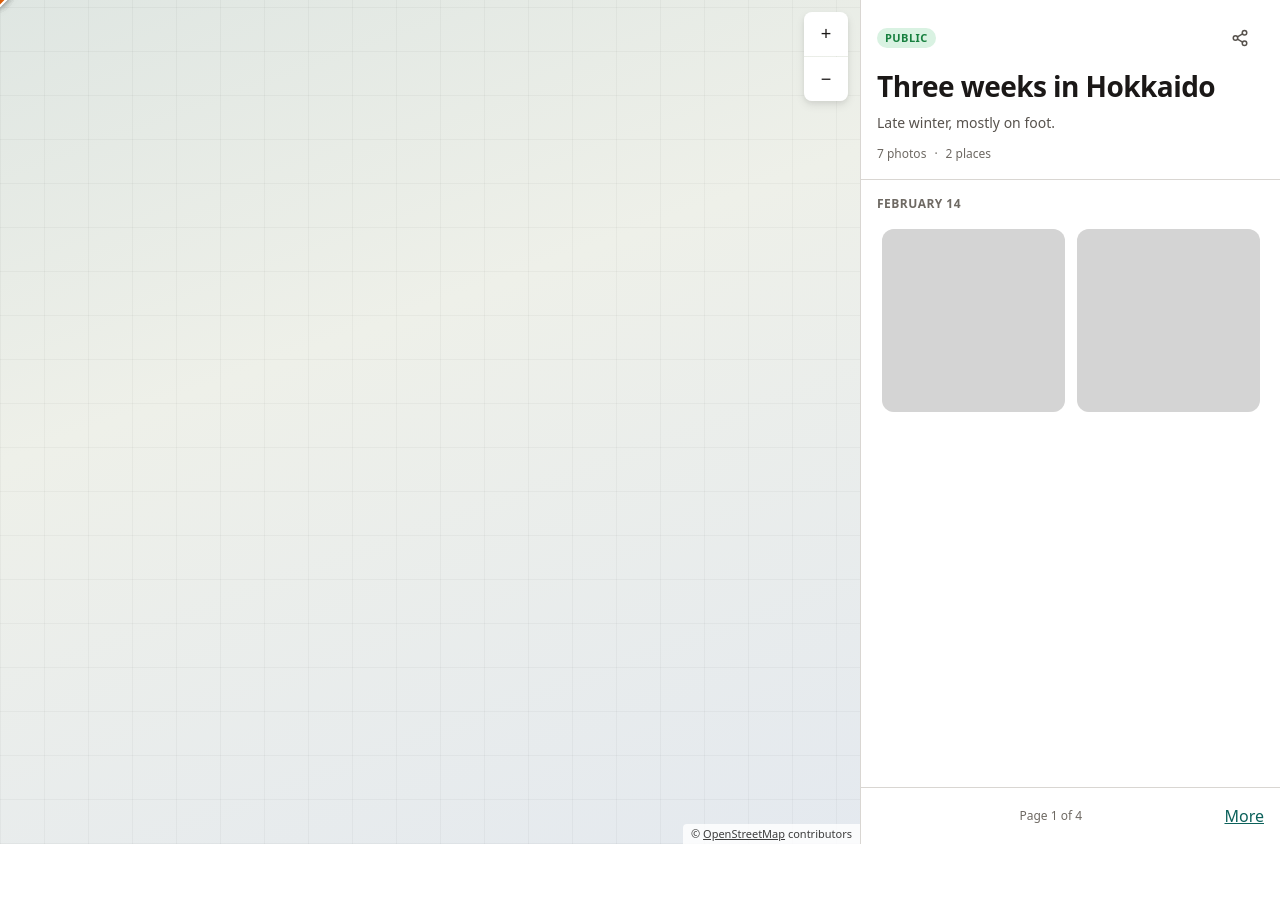
VoyageDetail — desktop photo pages › fits the map to the viewport and pages photos forward and backward
The width and height of the screenshot is (1280, 900).
expect the link "Previous" is not shown: met
Click the link "More": (1244, 816) [1224, 805, 1264, 827]
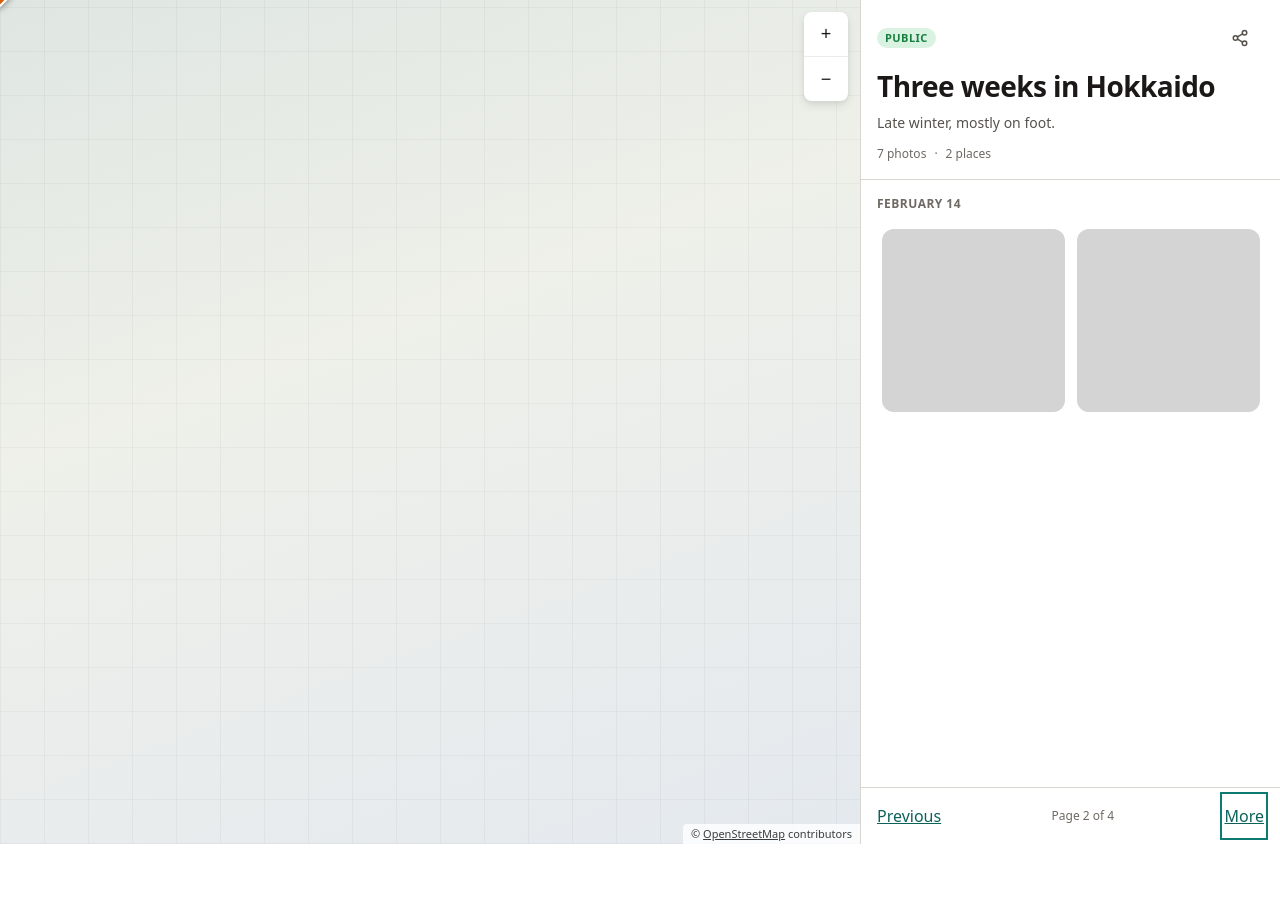
Click the link "Previous": (909, 816) [877, 805, 941, 827]
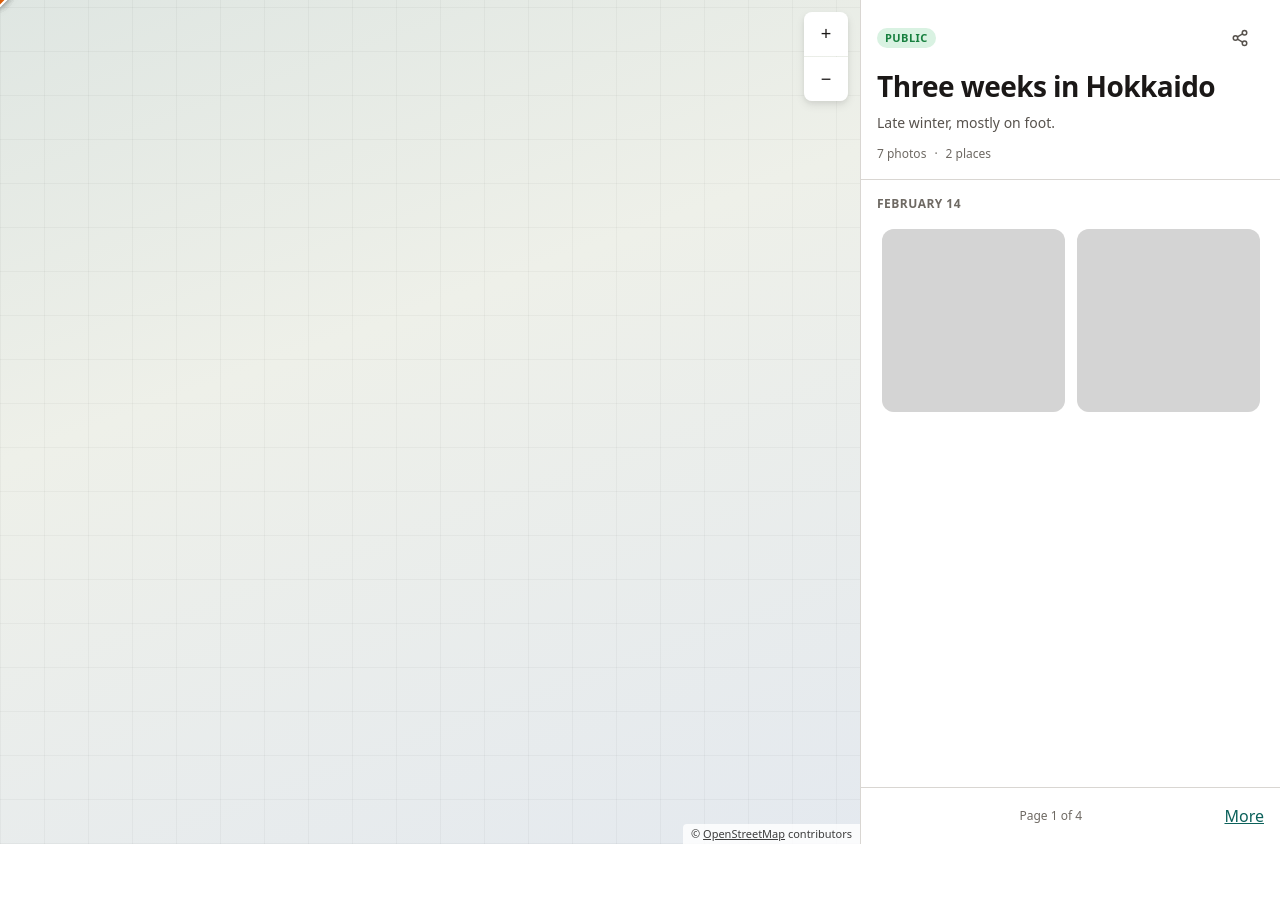
Click the link "More": (1244, 816) [1224, 805, 1264, 827]
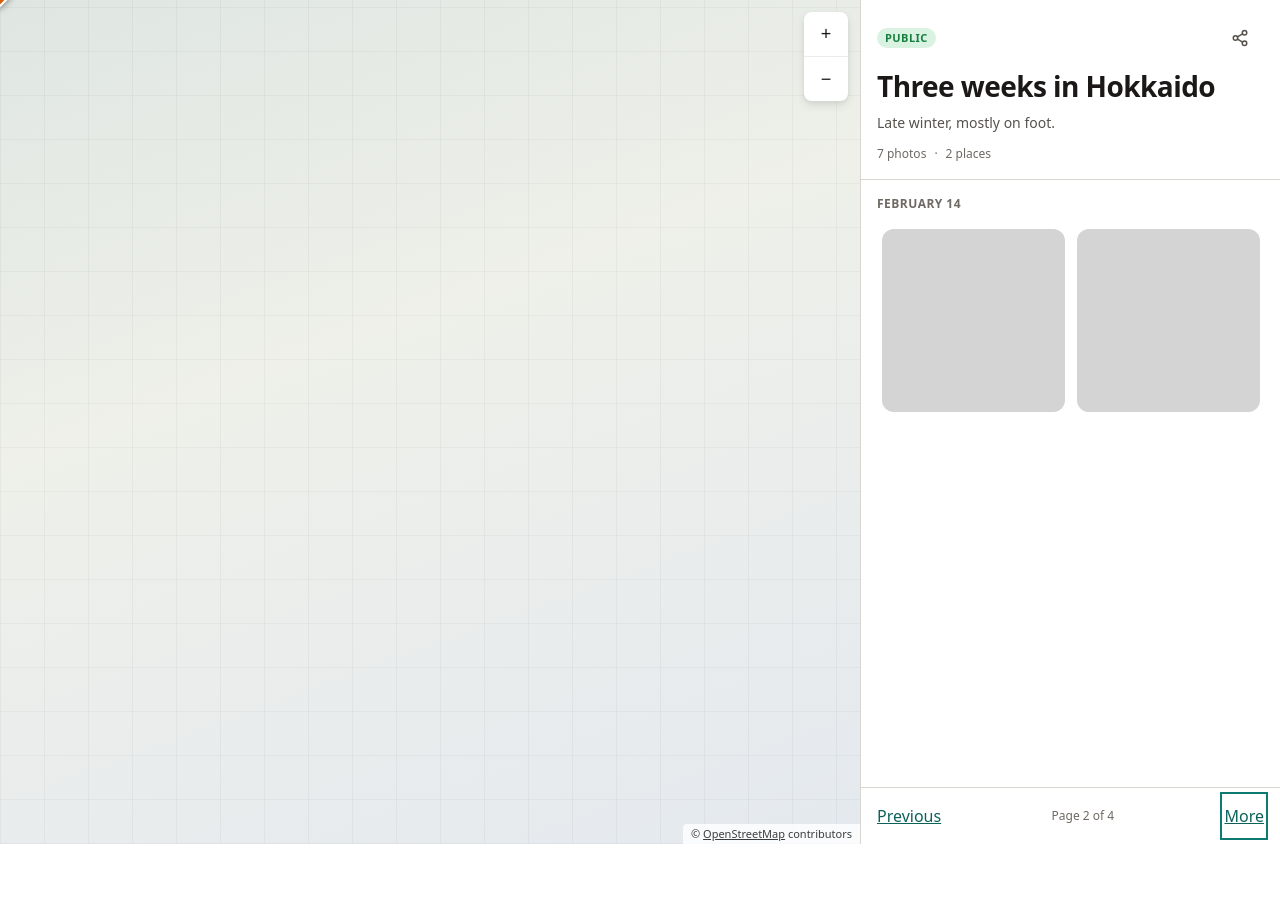
Click the link "More": (1244, 816) [1224, 805, 1264, 827]
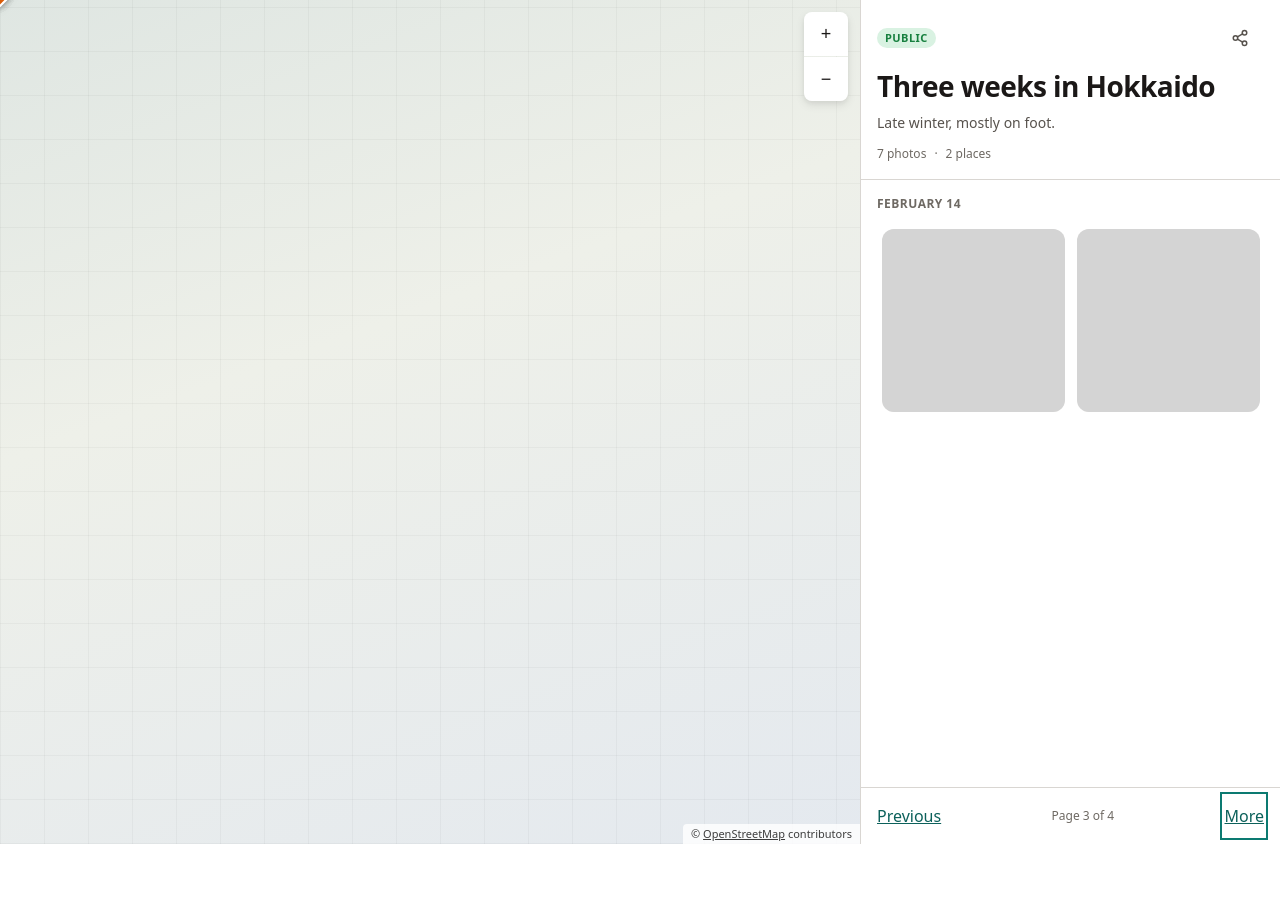
Click the link "More": (1244, 816) [1224, 805, 1264, 827]
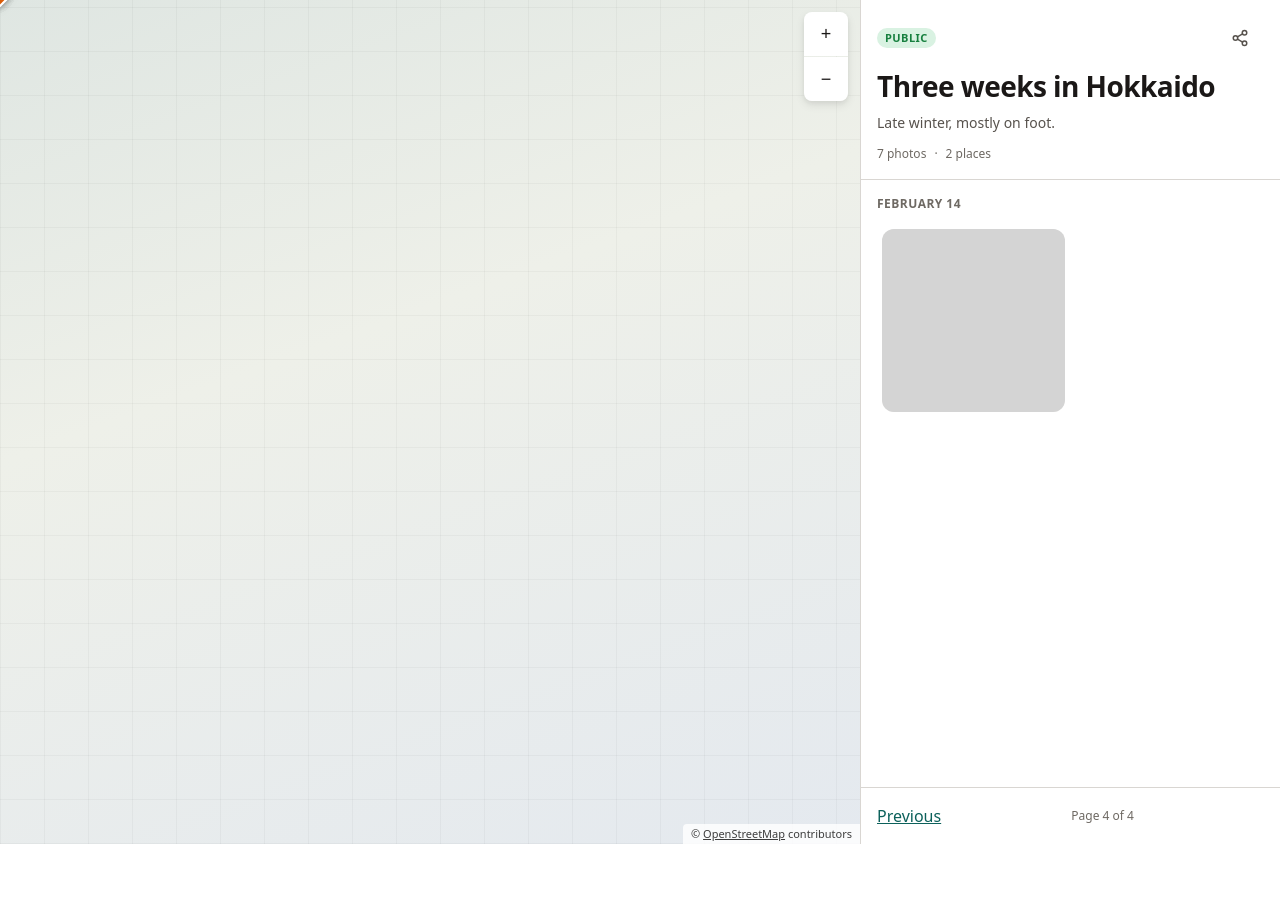
expect the link "More" is gone: met
